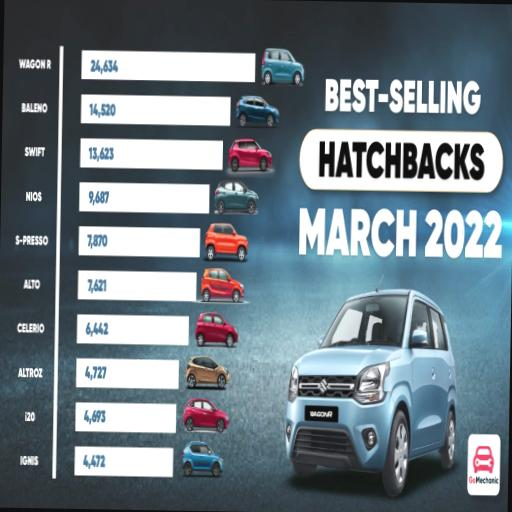hatchback: (214, 178, 259, 215), (205, 223, 248, 261), (185, 354, 229, 391), (261, 48, 304, 85), (228, 138, 272, 174), (183, 397, 228, 432), (200, 267, 244, 302), (195, 311, 237, 347), (181, 441, 223, 476), (236, 96, 279, 127)
